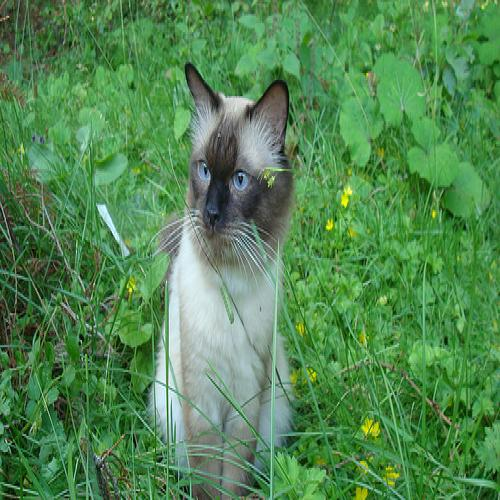siamese: (160, 39, 312, 279)
